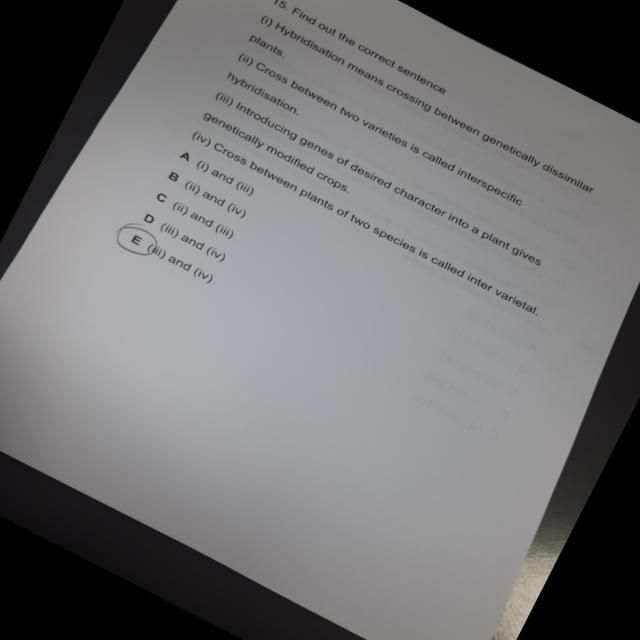E: (110, 217, 167, 267)
